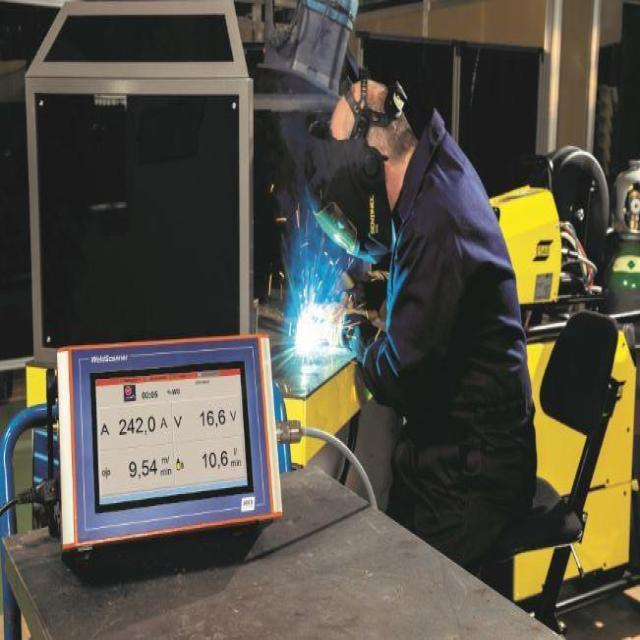with_helmet: (295, 77, 527, 588)
